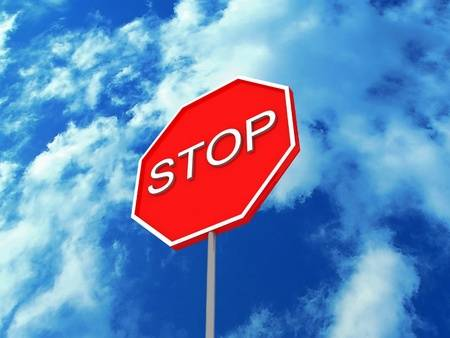stopsign: (132, 78, 294, 250)
